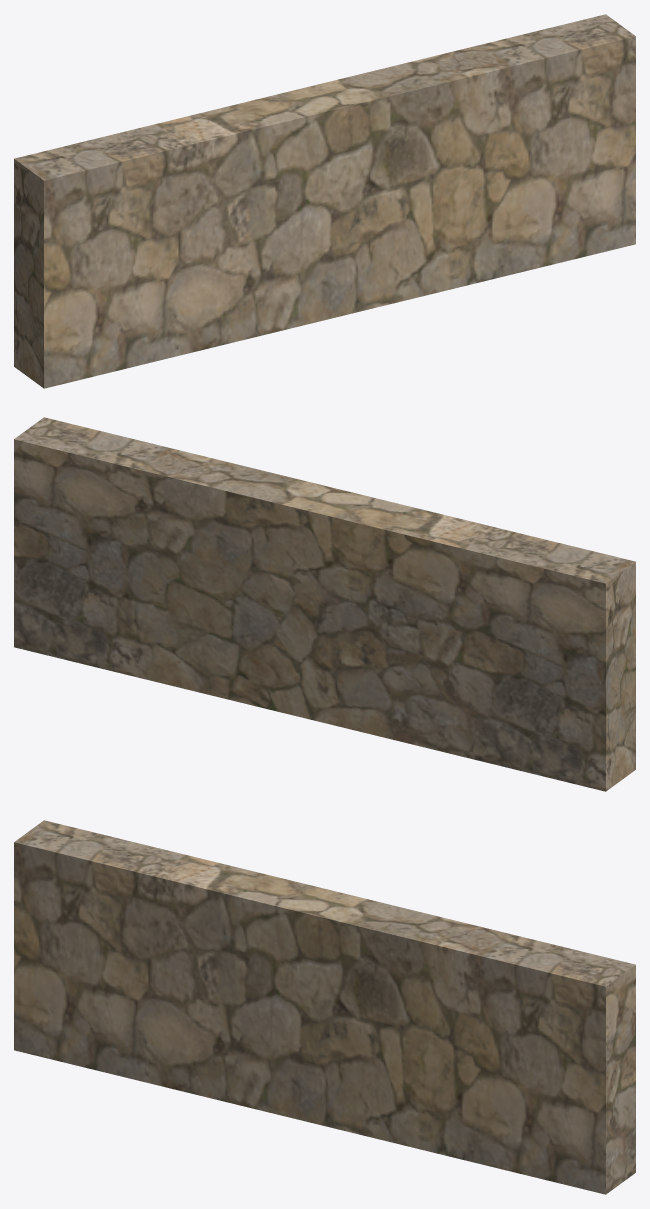
The model's file is cerca_media.glb.
3 renders of one model, top to bottom at view 1: azimuth 30°, elevation 25°; view 2: azimuth 150°, elevation 25°; view 3: azimuth 330°, elevation 25°, orthographic.
Parts seen in each view (by area): view 1: Modelo; view 2: Modelo; view 3: Modelo.
Part boxes in pixels (x1,y1,x2,y2): Modelo: (14, 14, 635, 388); Modelo: (14, 417, 635, 791); Modelo: (14, 820, 635, 1194).
Bounding box in the file's own units: 4.23 × 1.42 × 0.3727.
1 material, 1 textured.
